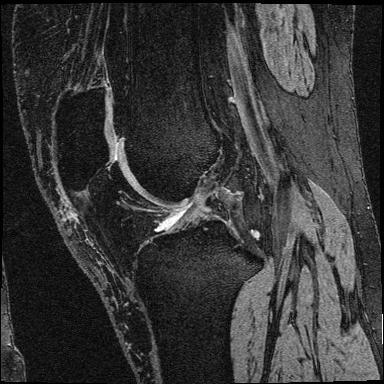KneeJointArea_Lat: (48, 84, 267, 298)
